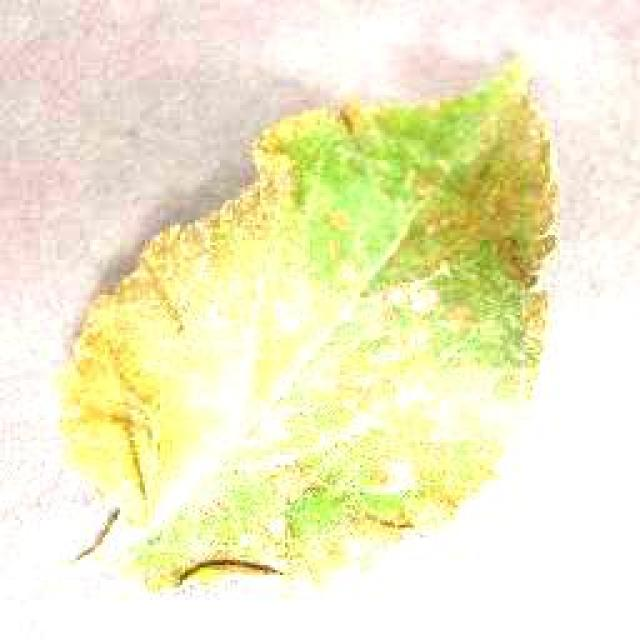apple healthy: (55, 50, 560, 592)
